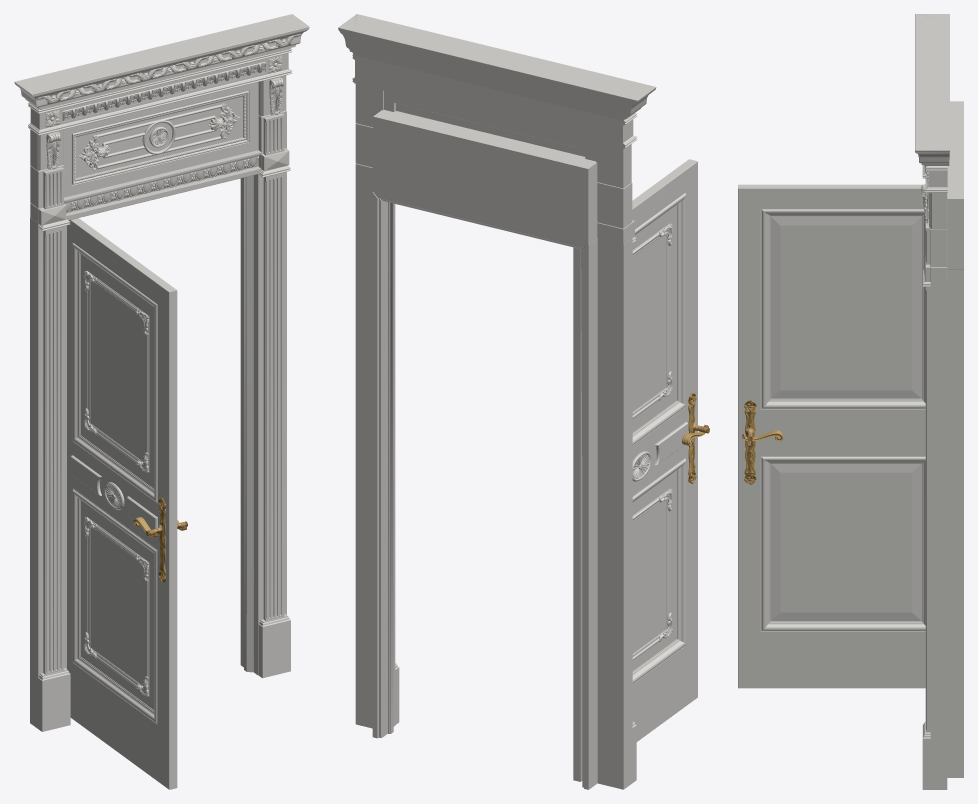
File: Porta.glb
3 views of the same model, side by side, from view 1: azimuth 30°, elevation 25°; view 2: azimuth 150°, elevation 25°; view 3: azimuth 270°, elevation 25° (orthographic). The views are drawn at different scales.
Parts seen in each view (by area): view 1: Doors_Radika_02_1; view 2: Doors_Radika_02_1; view 3: Doors_Radika_02_1.
Boxes of the visible parts, x1,y1,x2,y2 form: Doors_Radika_02_1: (14,14,309,789); Doors_Radika_02_1: (338,14,709,789); Doors_Radika_02_1: (738,14,963,789).
Bounding box in the file's own units: 1.16 × 2.57 × 0.8117.
Materials: 2 (1 with a texture image).
